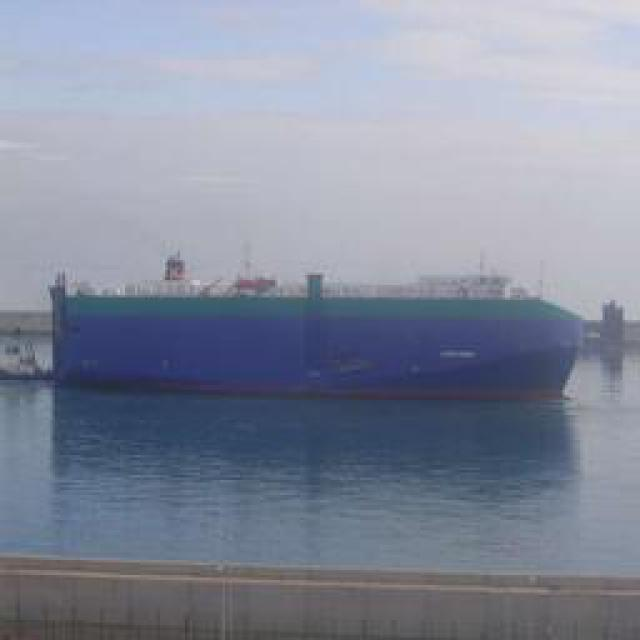Ship: (50, 275, 583, 385)
